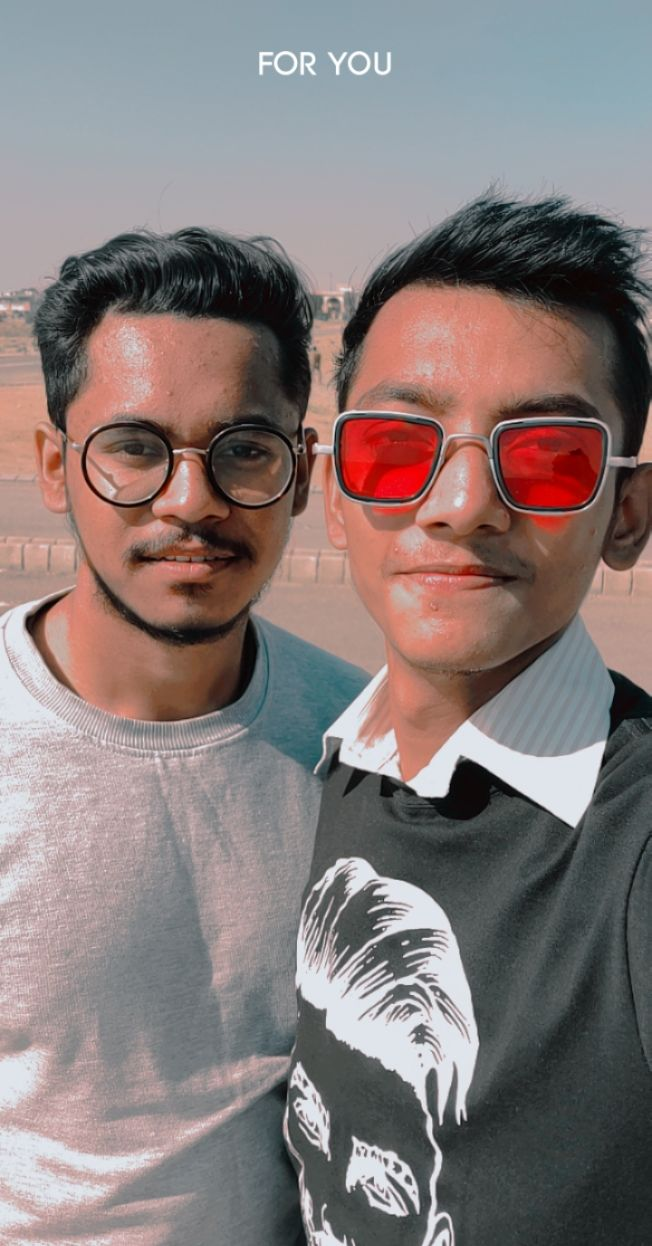NoMask: (345, 371, 604, 673), (79, 411, 289, 642)
